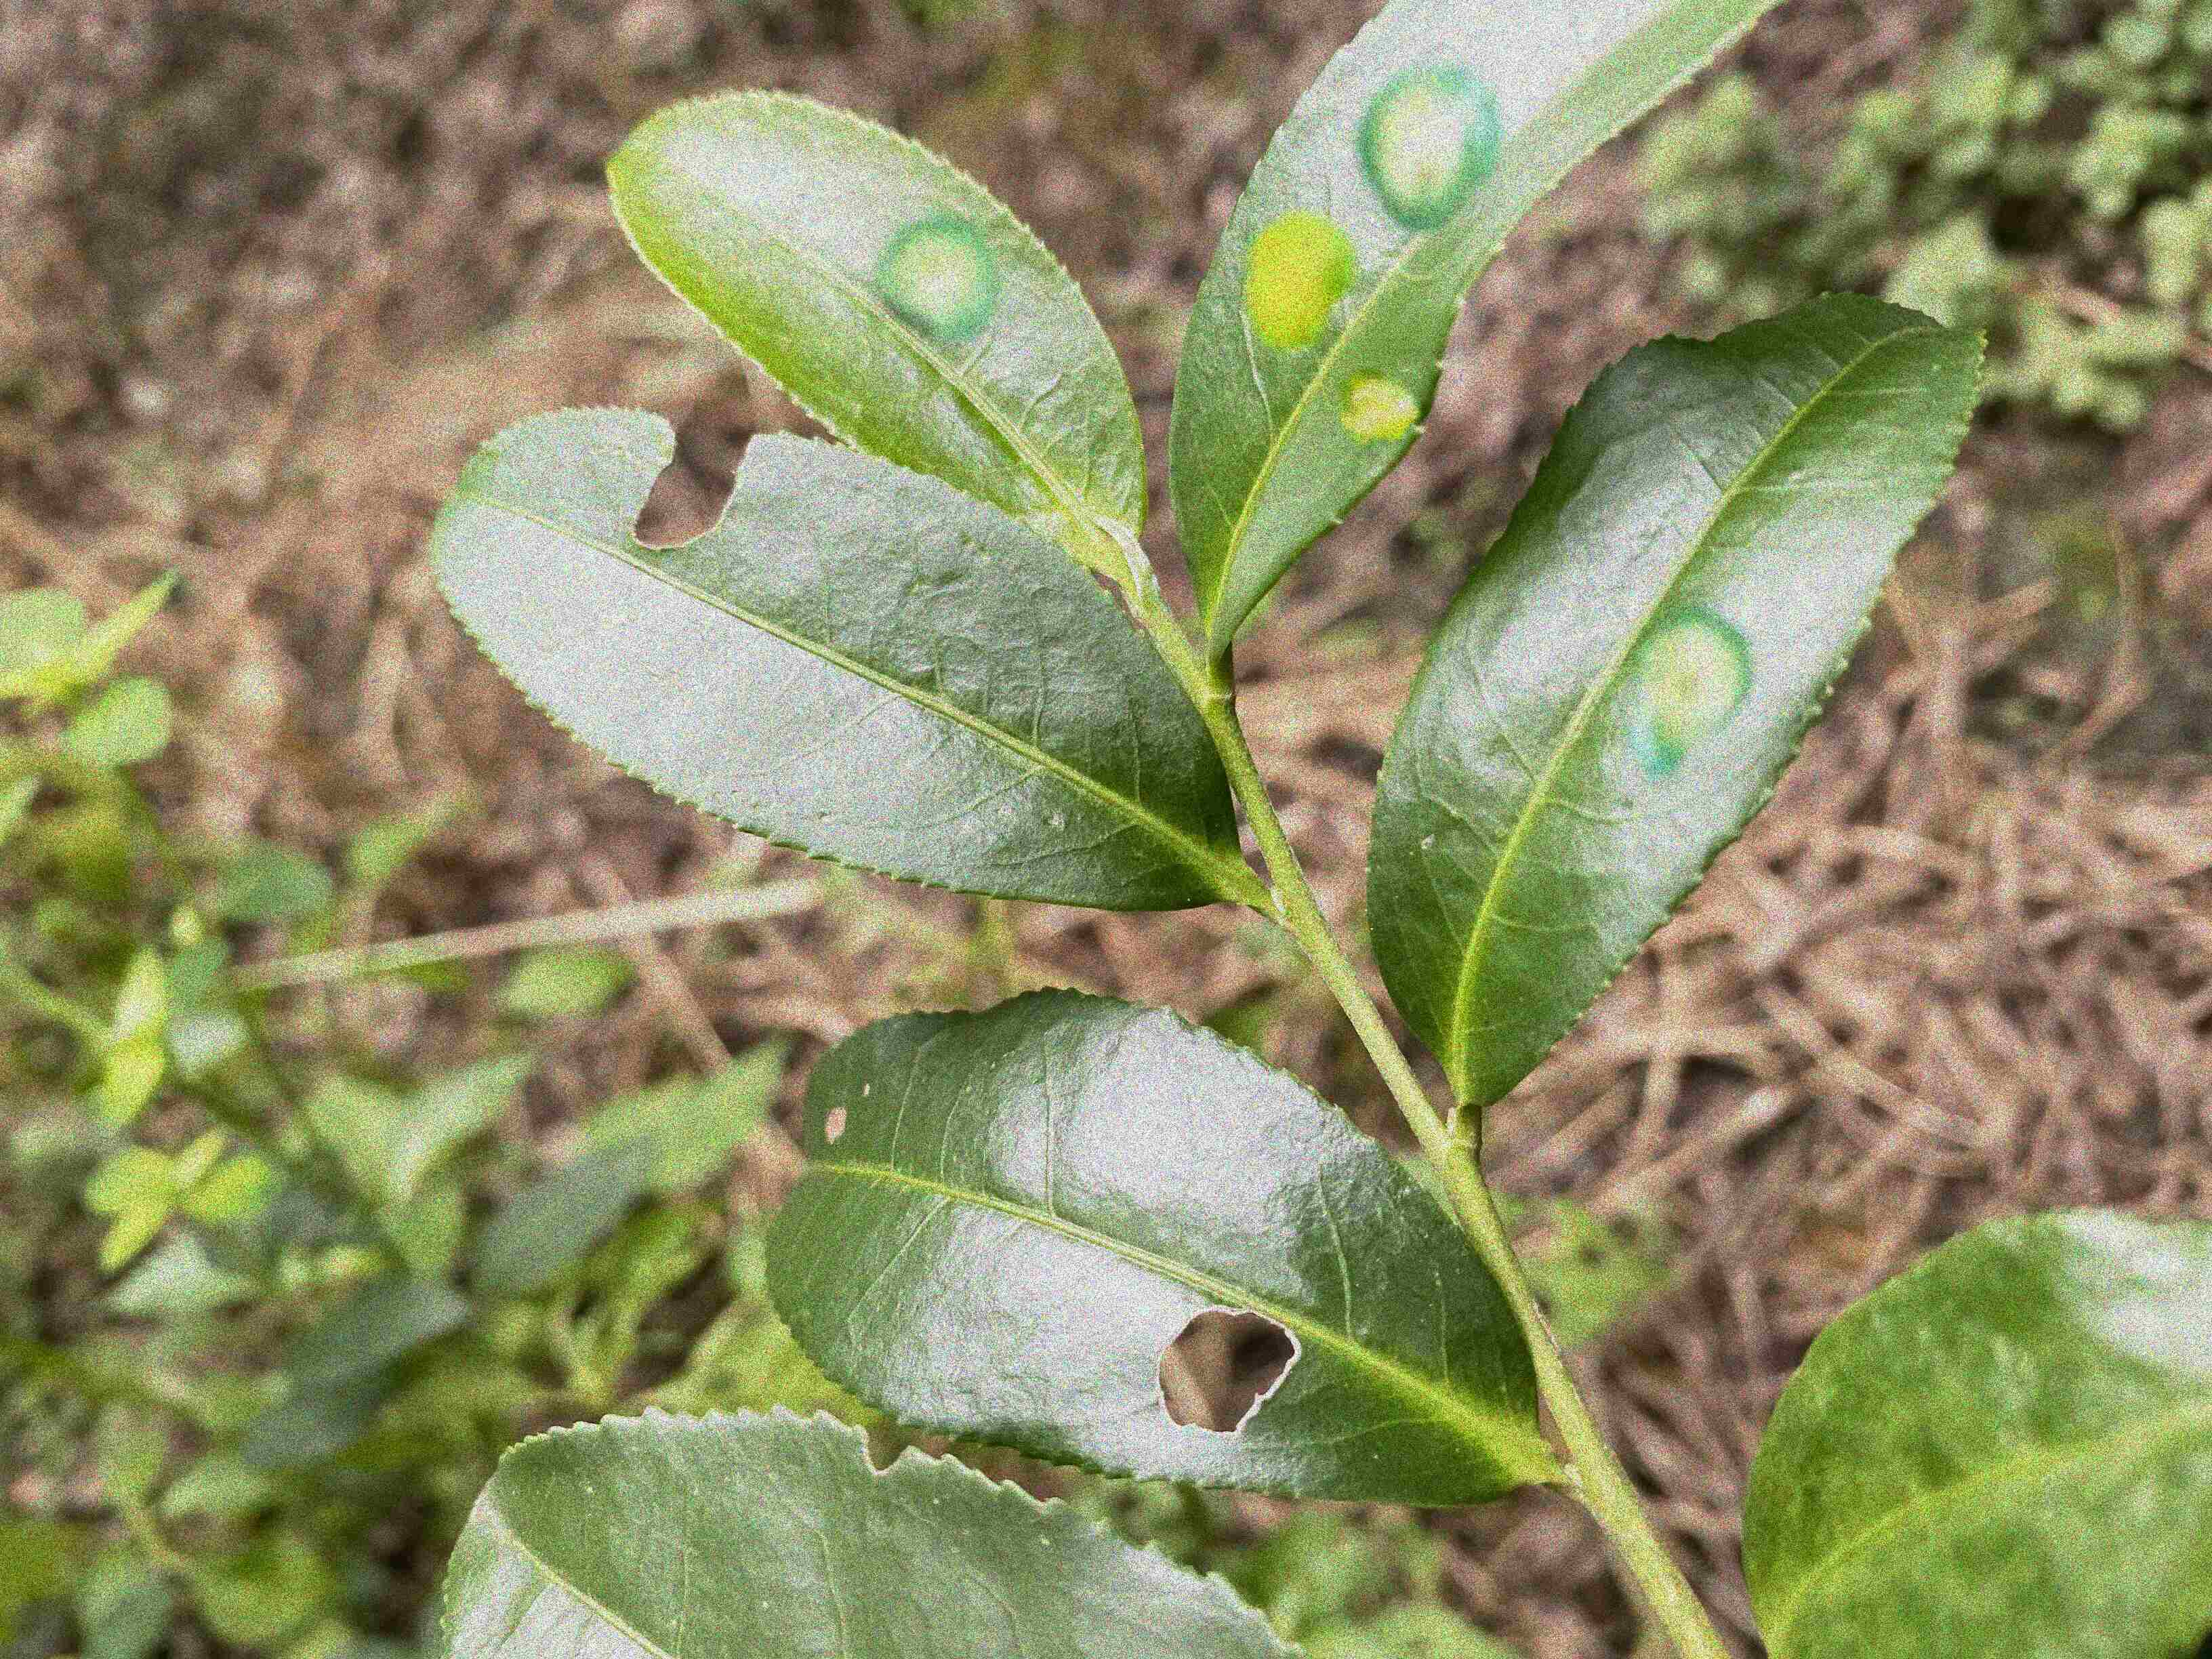chabing_high: (1167, 0, 1782, 638)
chabing_low: (1360, 286, 1993, 1107), (603, 84, 1151, 565)
chihuo_low: (756, 981, 1548, 1511), (428, 404, 1244, 911), (430, 1401, 1308, 1657)
